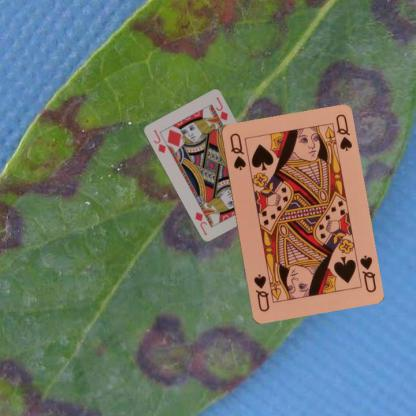Jd: (152, 127, 168, 154)
Qs: (356, 252, 378, 293), (227, 130, 247, 172)
